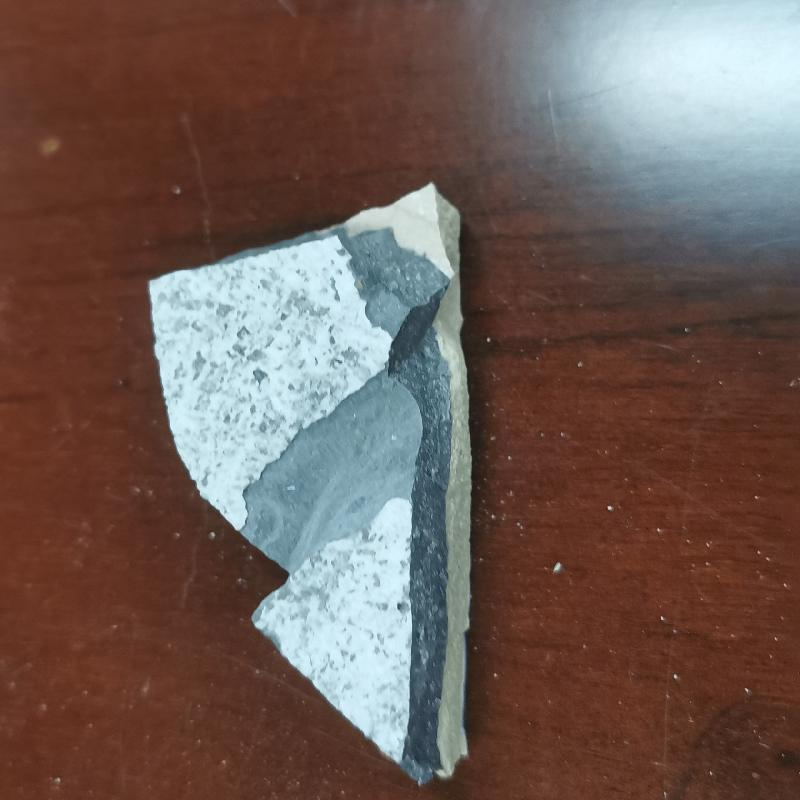tile: (139, 178, 481, 785)
